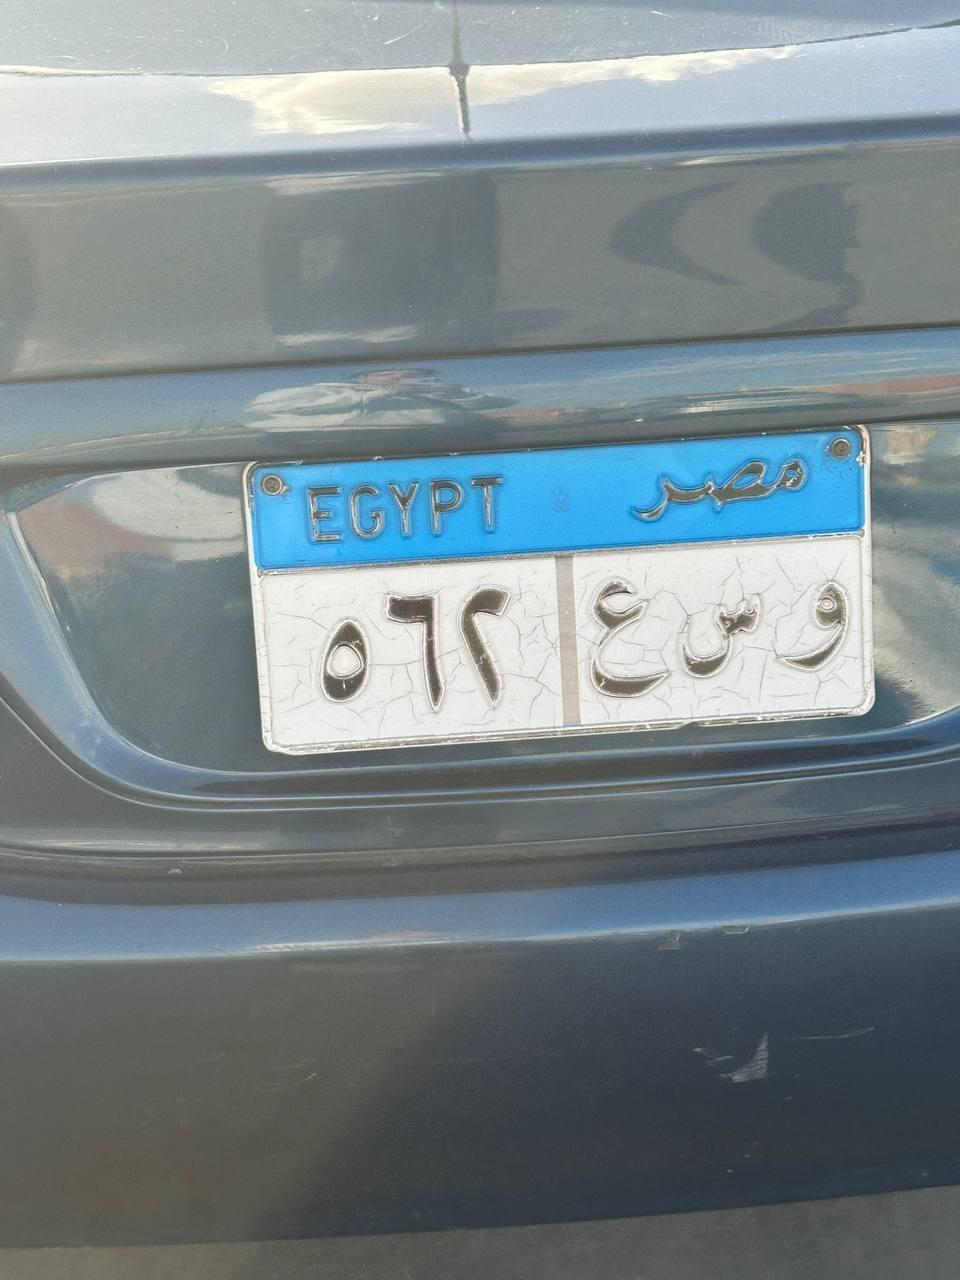2: (460, 586, 519, 706)
5: (312, 616, 372, 706)
6: (380, 596, 446, 714)
Een: (588, 572, 668, 700)
License Plate: (240, 423, 881, 741)
Seen: (666, 589, 755, 685)
Wow: (770, 583, 857, 676)
